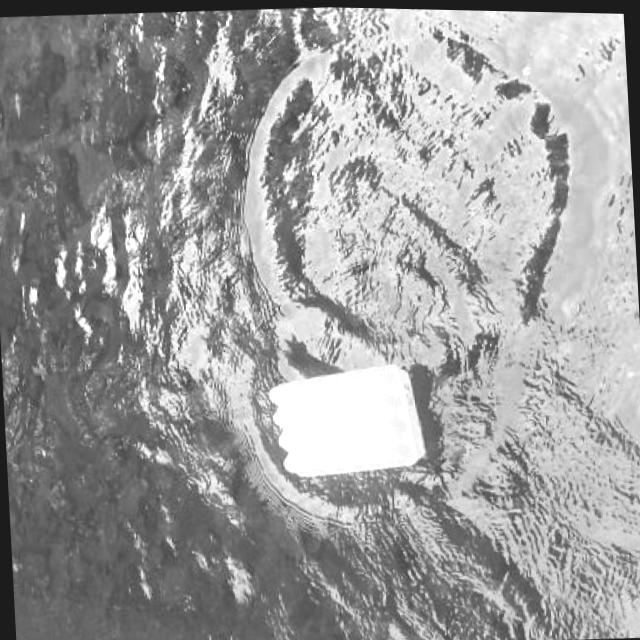Plastic: (262, 352, 434, 482)
